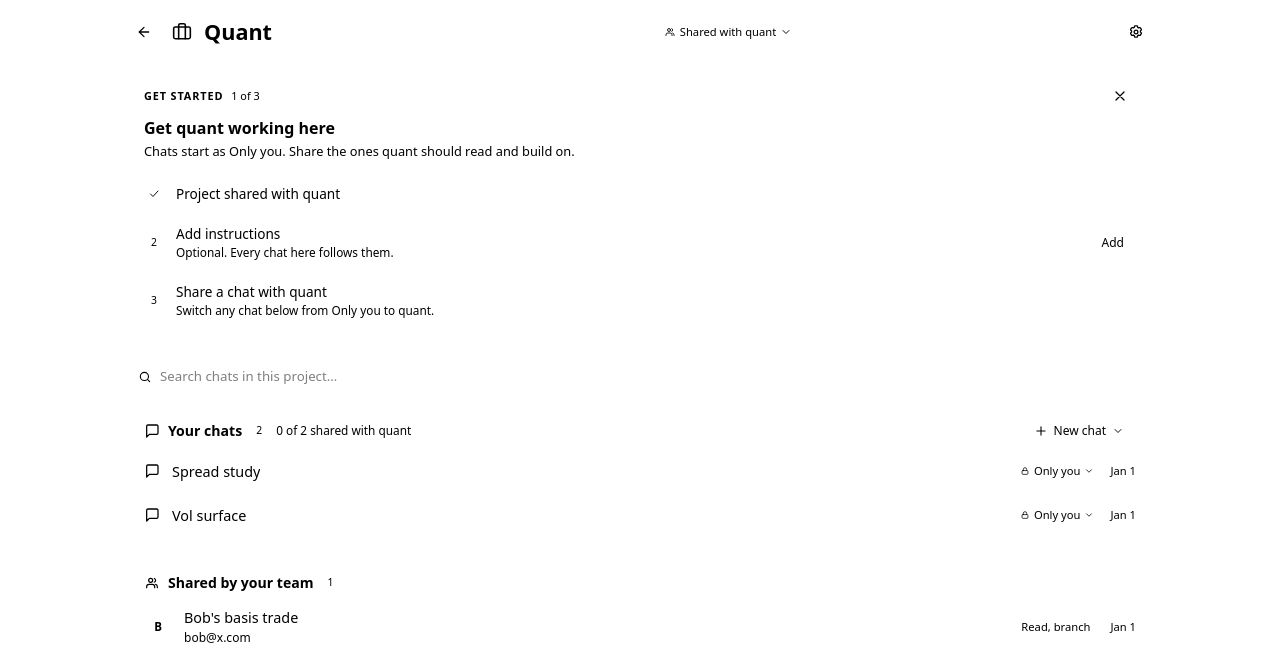
Test: ProjectHome — search (E1) › filters your chats and the team's from one field
The image size is (1280, 669).
Expected: the text "Bob's basis trade" is shown, [184,608,298,627]
Type "spread" into the field labelled "Search chats in this project" at (651, 377), box [160,367,1142,387]
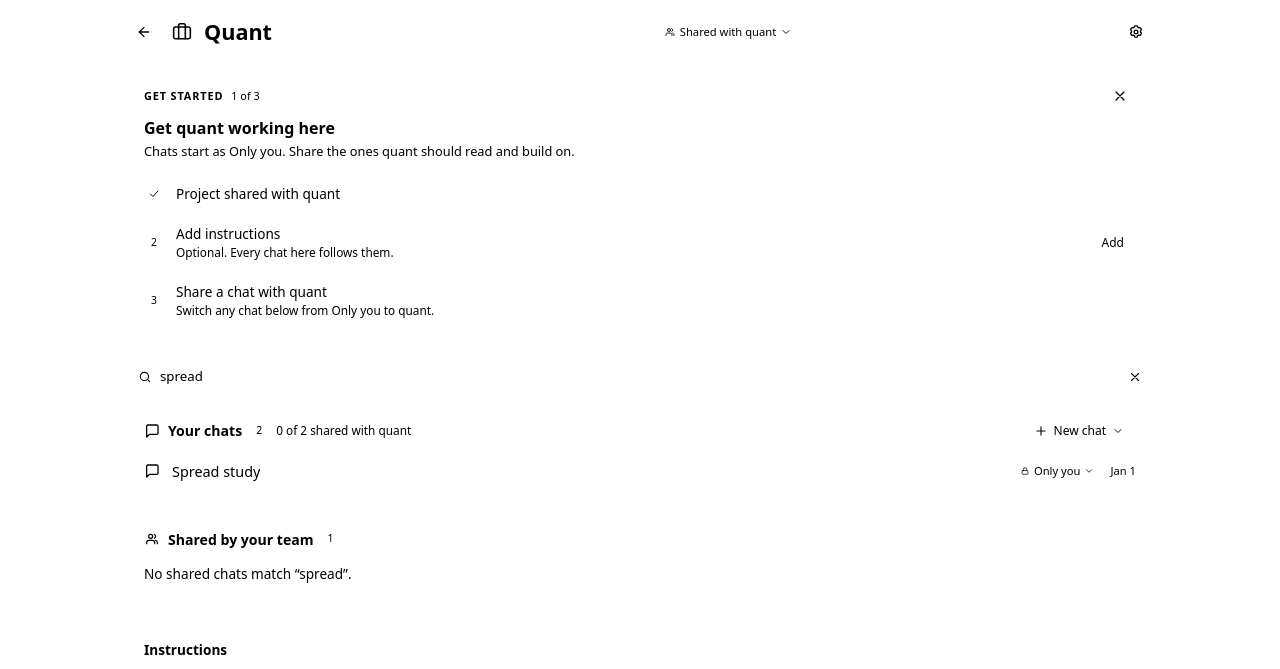
Now the button "Vol surface" is gone
Now the button "Bob's basis trade" is gone
Now the text "No shared chats match “spread”." is shown, box [144,564,352,583]
